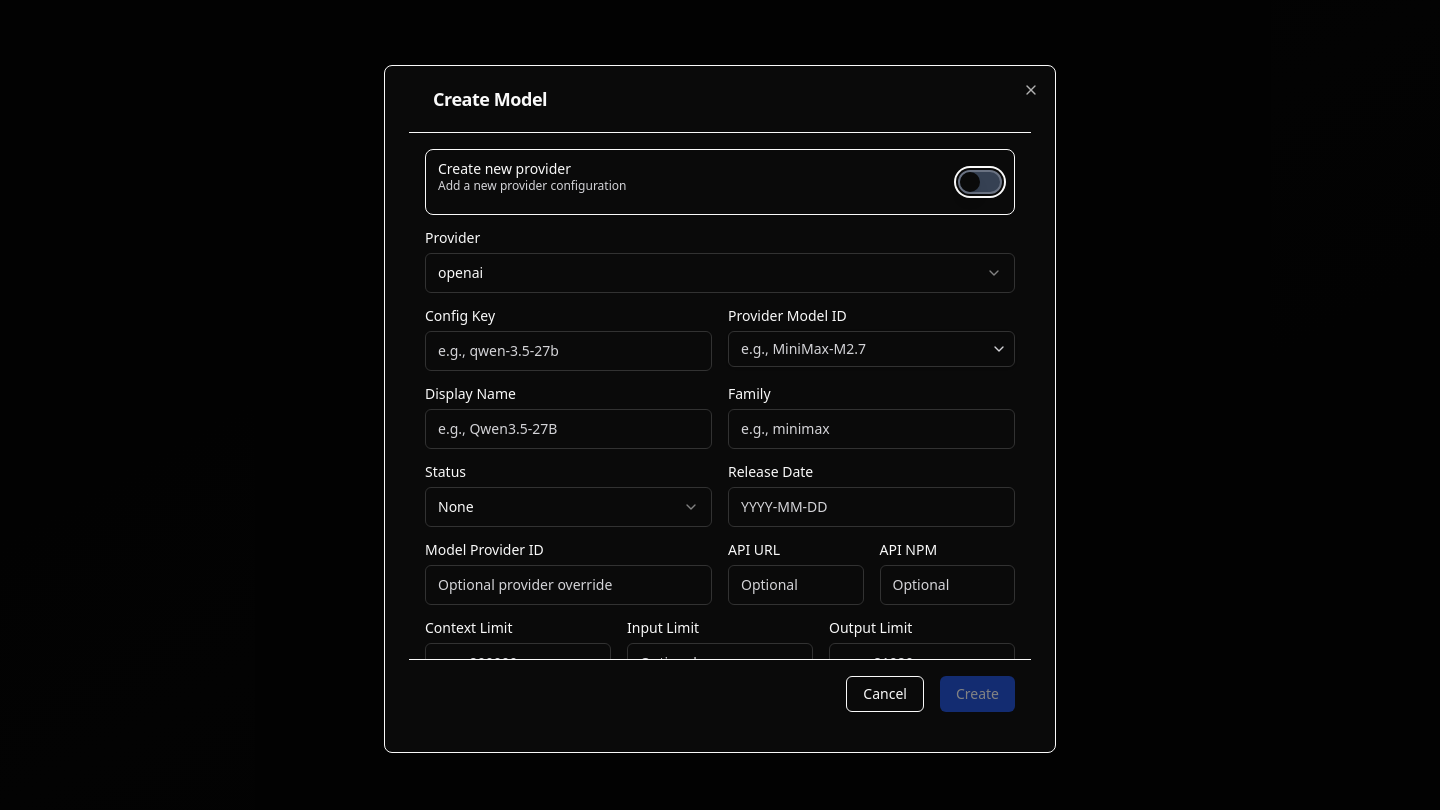
Scenario: OpenCodeModelDialog › form validation › should require model id when submitting empty form
Click the button "Create". click: (977, 694)
box: 940,676 -> 1015,712
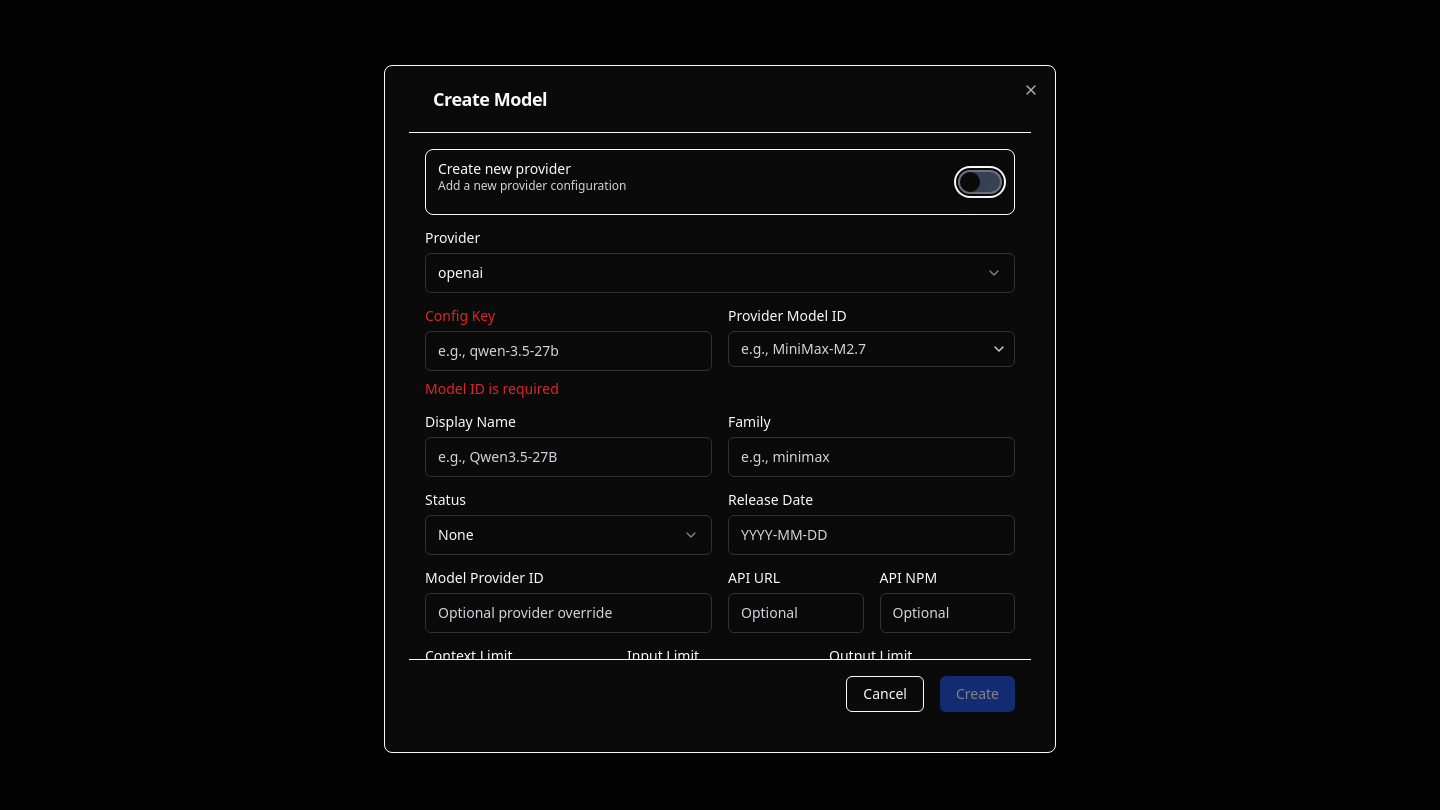
Expected: the text "Model ID is required" is shown, 425,379 -> 559,398
